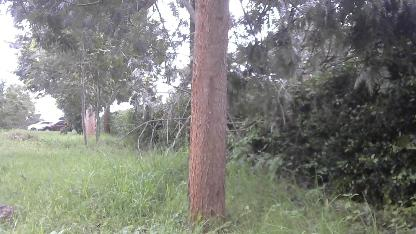tree: (184, 0, 233, 223)
